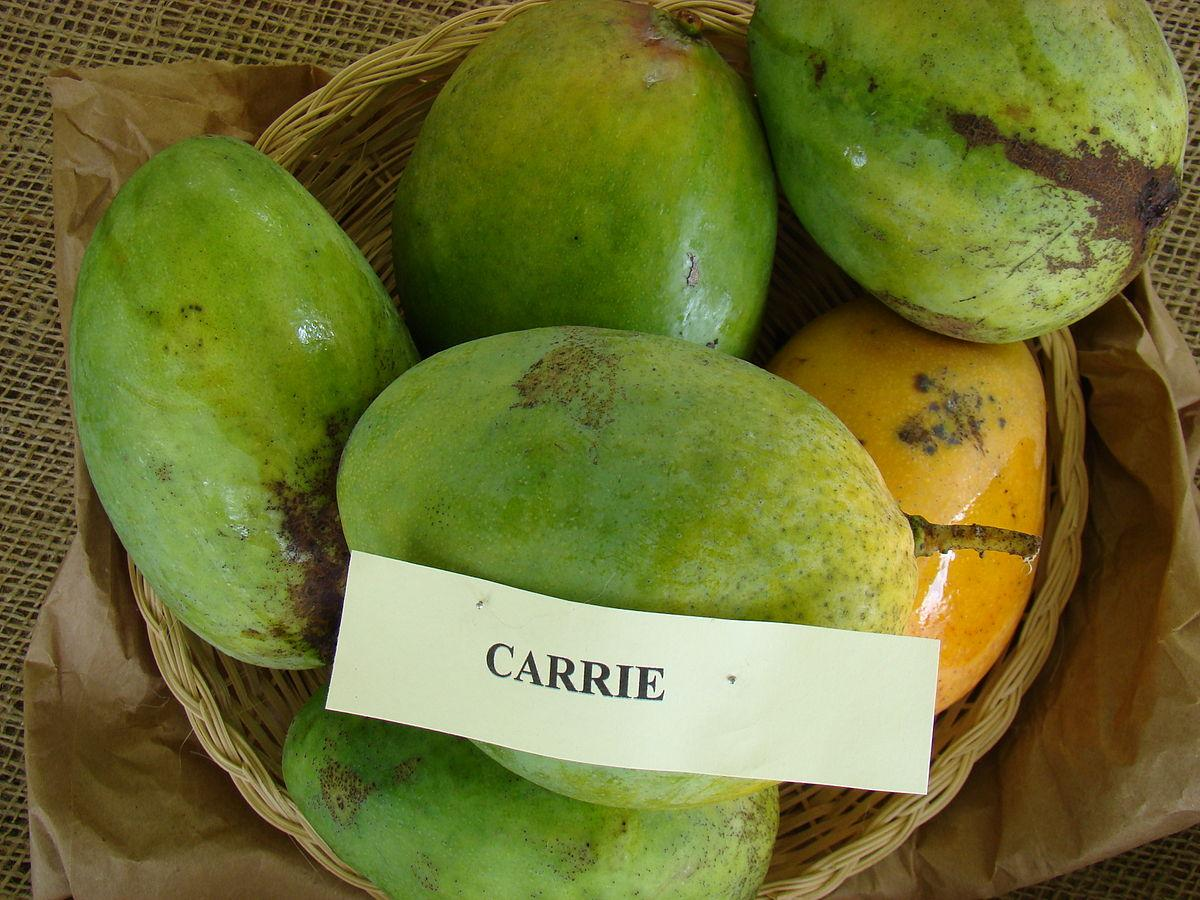Mango Semifresh: (68, 125, 425, 675), (735, 2, 1200, 340), (365, 35, 815, 383), (285, 295, 288, 302)
